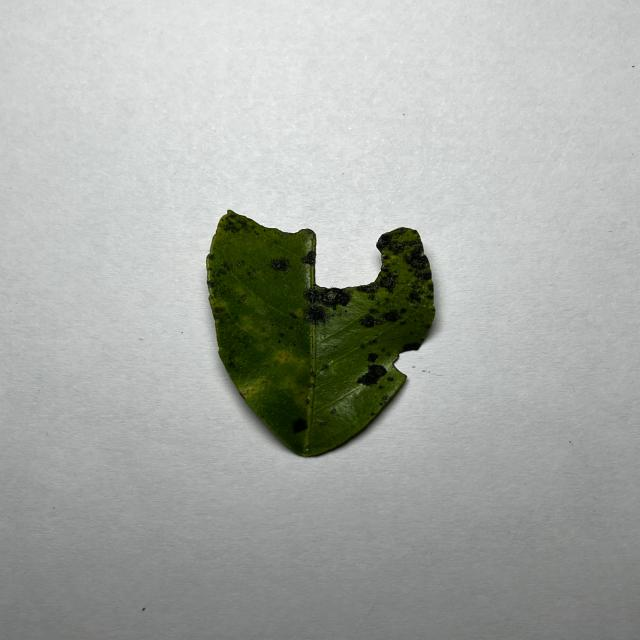sooty_mold: (207, 211, 434, 457)
